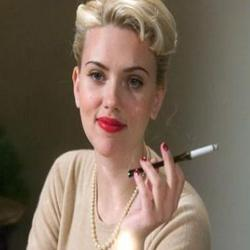smoking: (119, 141, 221, 250)
